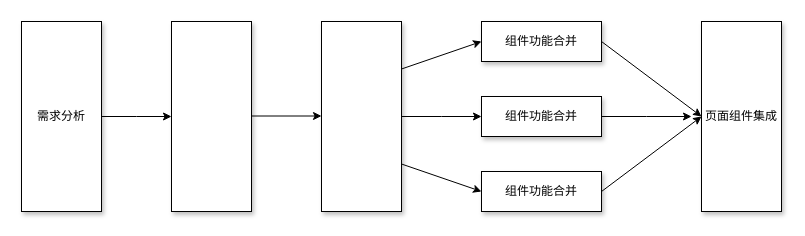
The diagram is 805 pixels wide and 236 high, and some of its shapes have lost their labels. Each missing label, with the centre of its shape:
页面分化: point (212, 117)
页面拆分 组件设计: point (362, 117)
